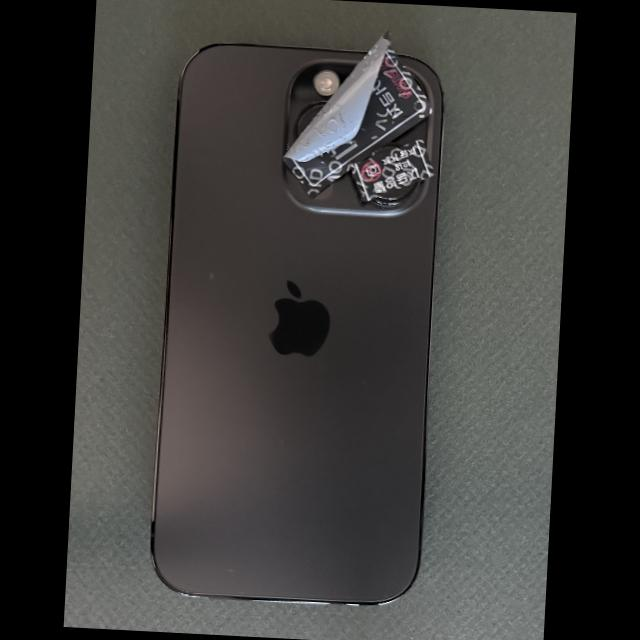lens: (371, 182, 416, 206), (295, 102, 323, 137), (406, 72, 423, 95)
phone: (151, 45, 441, 604)
sticker: (282, 30, 434, 198), (349, 139, 436, 203)
